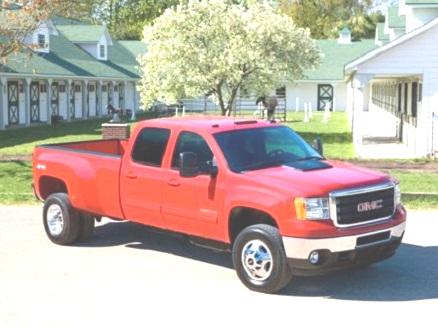GMC: (349, 194, 393, 215)
